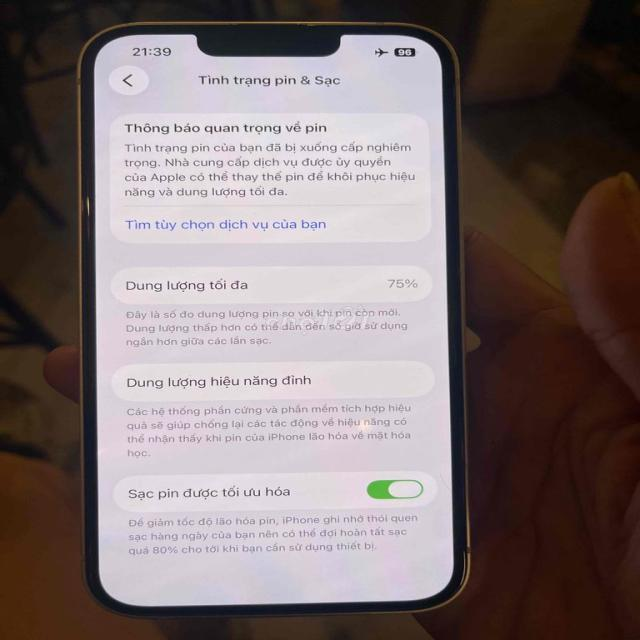gen_12_13: (68, 12, 491, 620)
